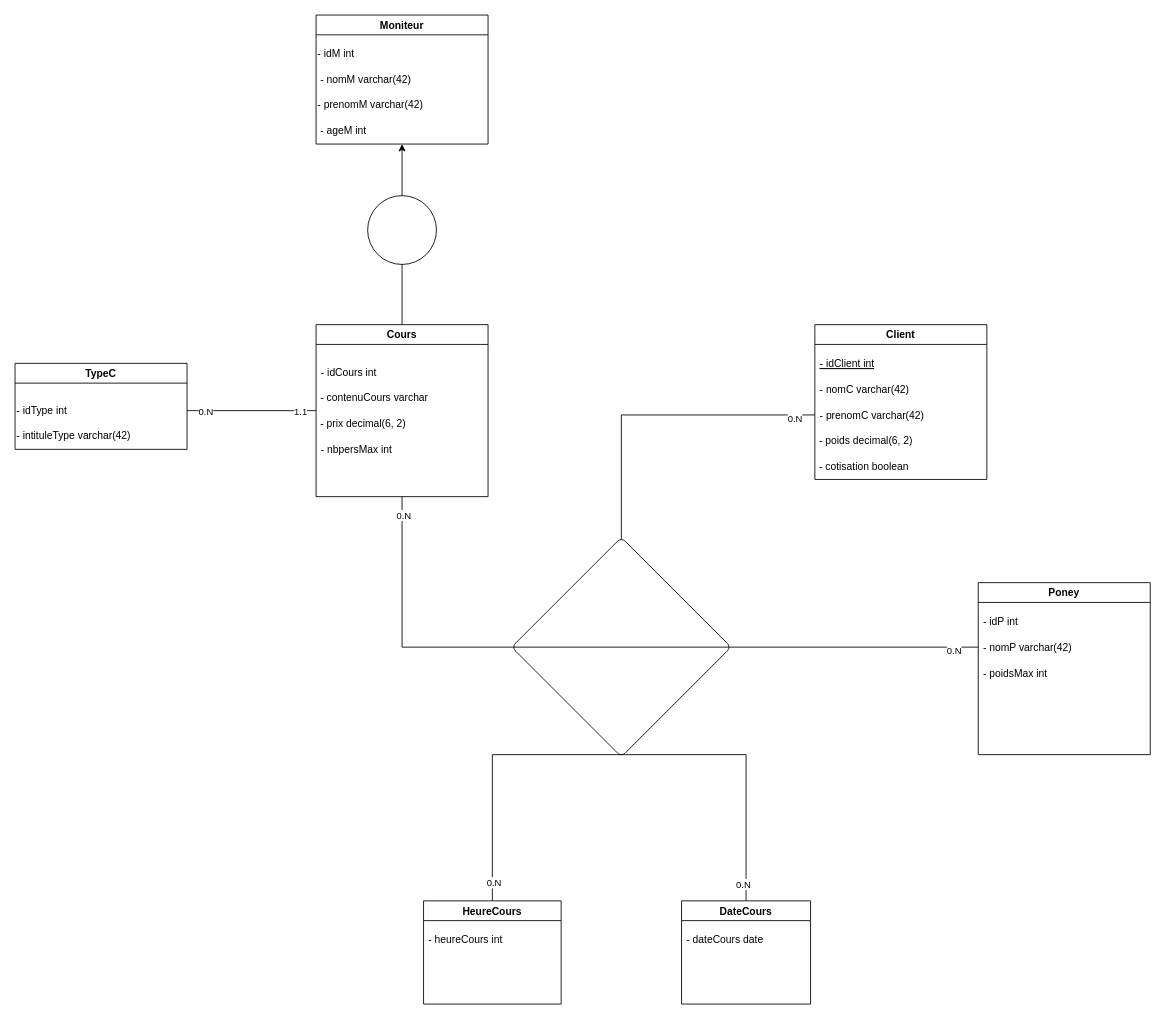
Some shapes in this 1165 by 1019 pixel diagram are drawn without their labels. The shapes that lost their labels are listed below. From the top down, each one's centre as x and y in pixels, then its label:
the point at 401,229: CIF
the point at 621,647: Reservation
